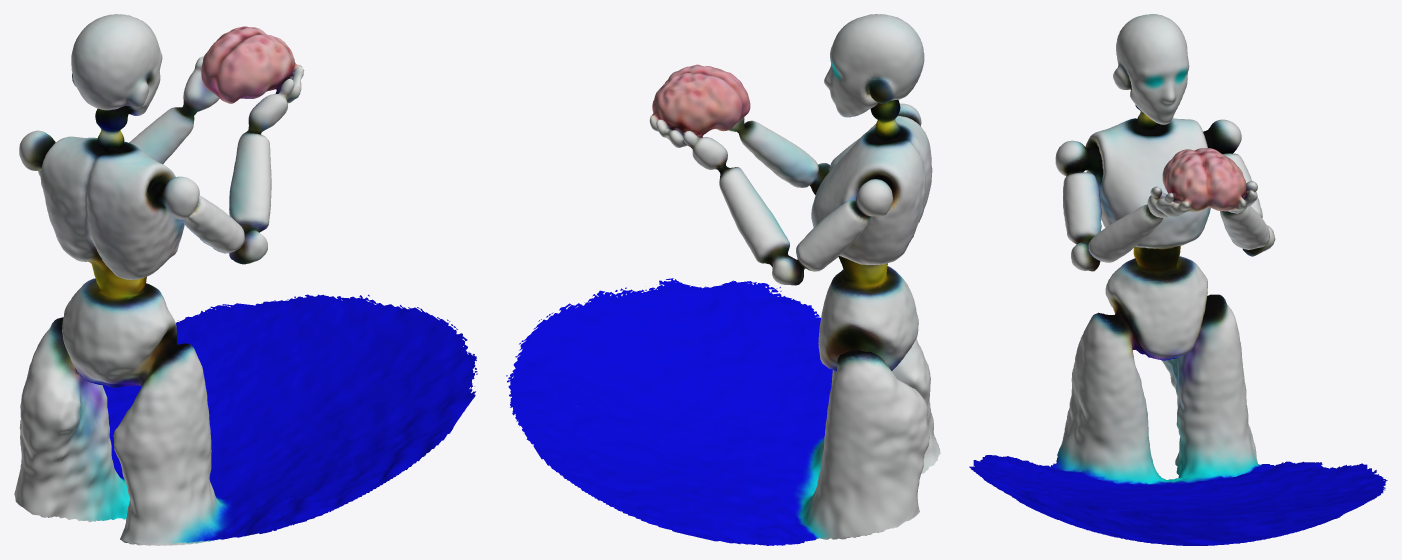
The model's file is robotholdsbrain_1step.glb.
The picture shows the model from 3 angles, left to right: view 1: azimuth 30°, elevation 25°; view 2: azimuth 150°, elevation 25°; view 3: azimuth 270°, elevation 25°; orthographic projection. The views are drawn at different scales.
Visible parts, largest first — view 1: world; view 2: world; view 3: world.
Boxes of the visible parts, left/top/right/bottom form: world: left=14, top=14, right=477, bottom=545; world: left=506, top=14, right=940, bottom=545; world: left=969, top=14, right=1387, bottom=545.
Size of the model in its own units: 1.45 by 1.74 by 1.44.
